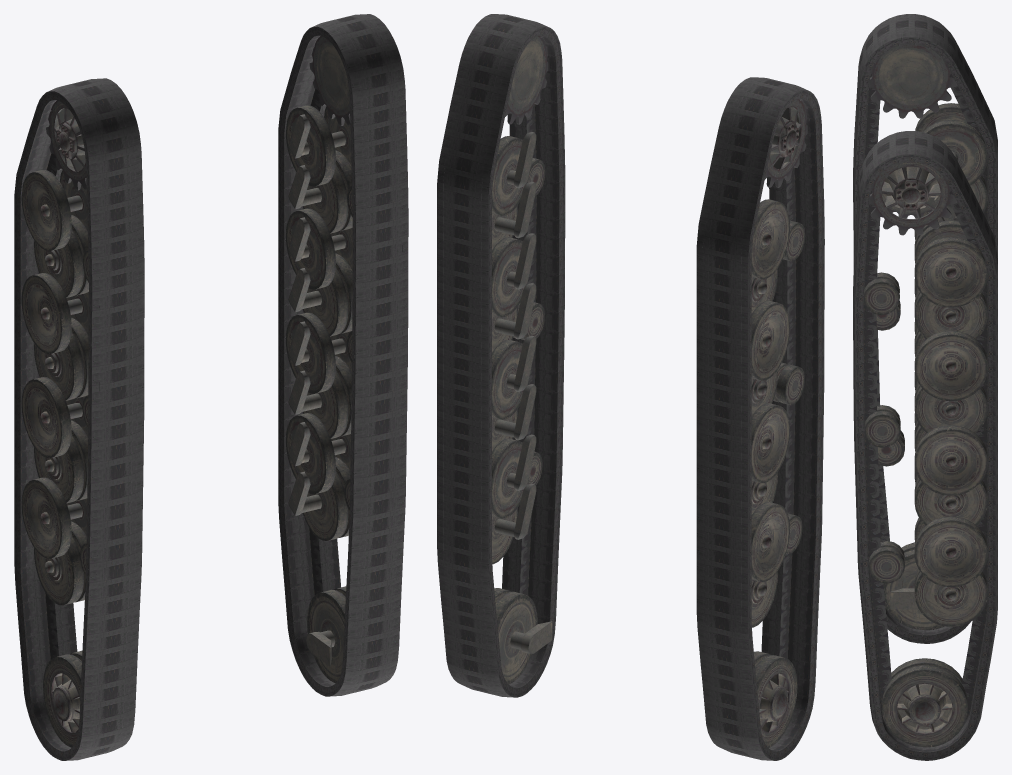
Rendered from Chassis.glb.
3 views of the same model, side by side, from view 1: azimuth 30°, elevation 25°; view 2: azimuth 150°, elevation 25°; view 3: azimuth 270°, elevation 25° (orthographic). The views are drawn at different scales.
Visible parts, largest first — view 1: set_0_group_0, set_1_group_0, set_3_group_0, set_2_group_0; view 2: set_0_group_0, set_1_group_0, set_3_group_0, set_2_group_0; view 3: set_3_group_0, set_1_group_0, set_2_group_0, set_0_group_0.
Part boxes in pixels (box(x1,y1,x2,y2)): set_0_group_0: box(14, 78, 144, 760); set_1_group_0: box(278, 14, 408, 696); set_3_group_0: box(286, 36, 352, 682); set_2_group_0: box(21, 100, 88, 747); set_0_group_0: box(696, 77, 824, 760); set_1_group_0: box(437, 14, 565, 697); set_3_group_0: box(492, 35, 552, 684); set_2_group_0: box(751, 99, 807, 747); set_3_group_0: box(864, 161, 987, 747); set_1_group_0: box(853, 131, 997, 760); set_2_group_0: box(869, 44, 987, 630); set_0_group_0: box(853, 14, 997, 643).
Bounding box in the file's own units: 3.16 × 6.42 × 1.38.
4 materials, 4 textured.
